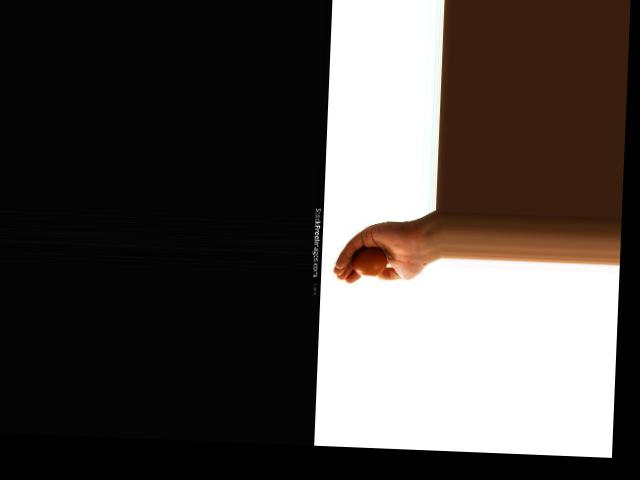egg: (349, 247, 387, 276)
